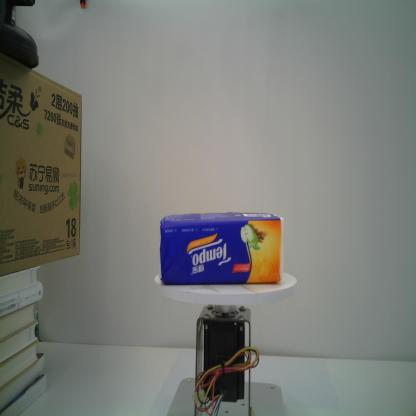Tissue: (158, 210, 285, 286)
